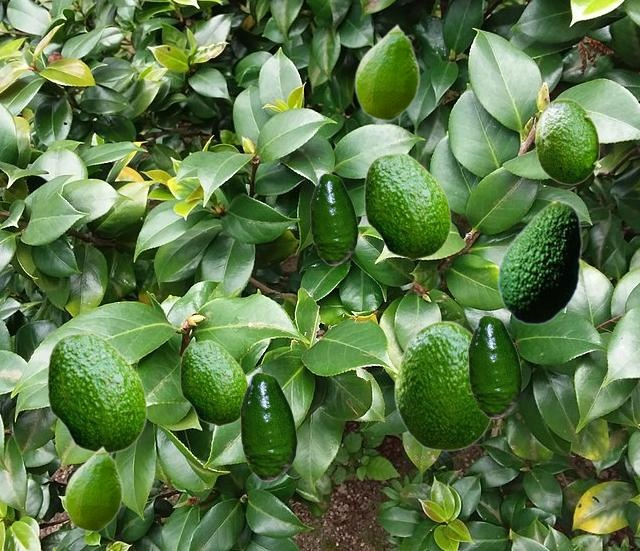avocado: (394, 320, 493, 450), (46, 330, 146, 454), (497, 200, 581, 324), (363, 151, 450, 259), (354, 23, 419, 120), (240, 372, 296, 480), (179, 339, 248, 425), (534, 98, 599, 184), (468, 315, 521, 417), (64, 445, 122, 531), (310, 173, 357, 264)
